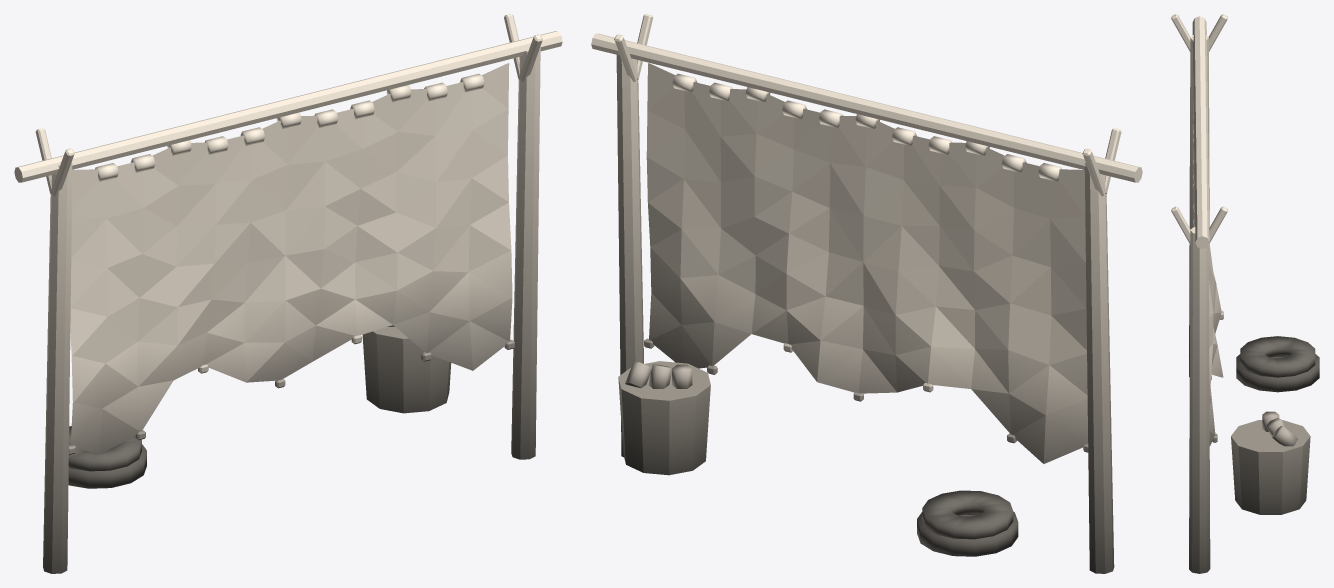
Rendered from SM_VK_Prop_NetRack.fbx.
The picture shows the model from 3 angles, left to right: view 1: azimuth 30°, elevation 25°; view 2: azimuth 150°, elevation 25°; view 3: azimuth 270°, elevation 25°; orthographic projection. The views are drawn at different scales.
Parts seen in each view (by area): view 1: SM_VK_Prop_NetRack.001; view 2: SM_VK_Prop_NetRack.001; view 3: SM_VK_Prop_NetRack.001.
Part boxes in pixels (x1,y1,x2,y2): SM_VK_Prop_NetRack.001: (14, 14, 562, 573); SM_VK_Prop_NetRack.001: (591, 14, 1142, 573); SM_VK_Prop_NetRack.001: (1171, 14, 1319, 573).
Size of the model in its own units: 3.7 by 2.81 by 1.04.
